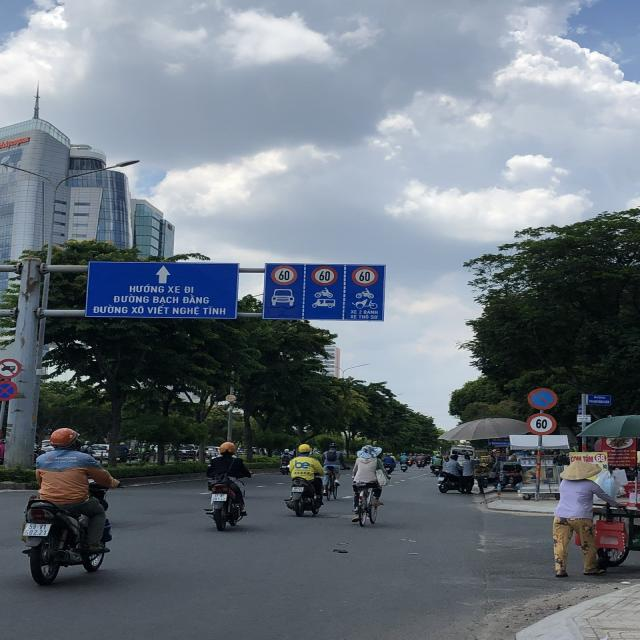Bien bao cam do xe: (524, 383, 560, 411)
Bien bao cam xe oto tai: (0, 358, 24, 378)
Bien bao toc do toi da cho phep: (350, 264, 381, 289), (526, 412, 557, 436), (310, 263, 339, 287), (270, 264, 298, 285)
